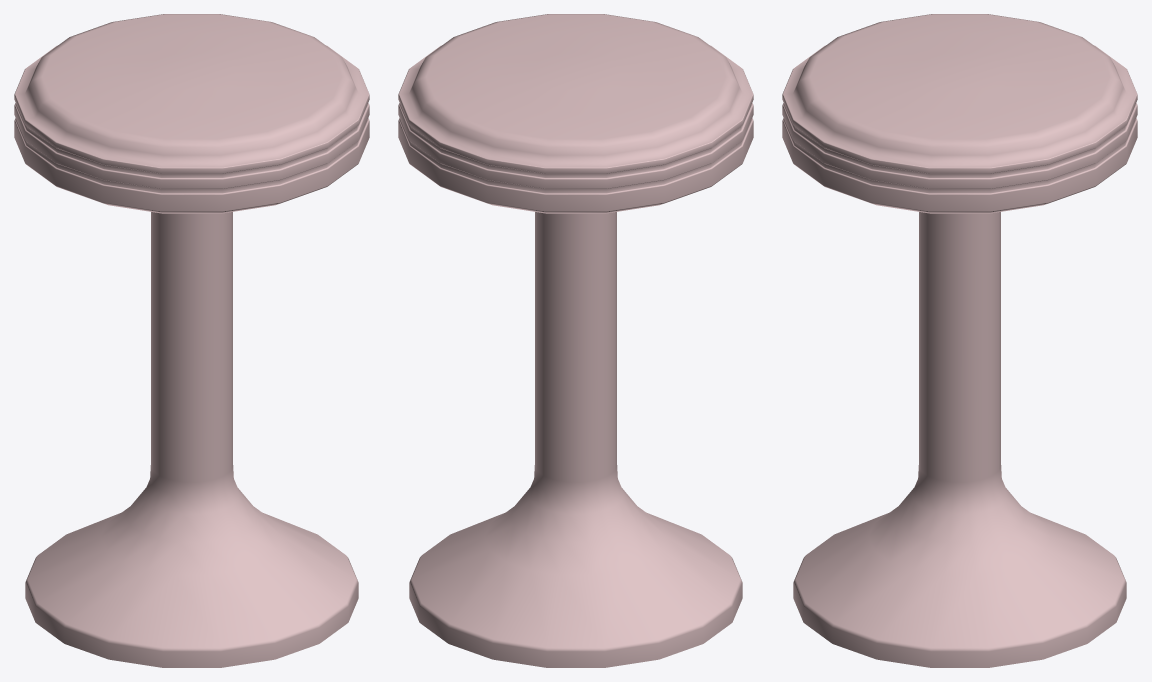
File: Stool_Final.fbx
3 renders of one model, left to right at view 1: azimuth 30°, elevation 25°; view 2: azimuth 150°, elevation 25°; view 3: azimuth 270°, elevation 25°, orthographic.
Parts seen in each view (by area): view 1: Stool_low_18sides_low; view 2: Stool_low_18sides_low; view 3: Stool_low_18sides_low.
Part boxes in pixels (x1,y1,x2,y2): Stool_low_18sides_low: (14, 14, 369, 667); Stool_low_18sides_low: (398, 14, 753, 667); Stool_low_18sides_low: (782, 14, 1137, 667).
Bounding box in the file's own units: 46.41 × 77.11 × 47.13.
